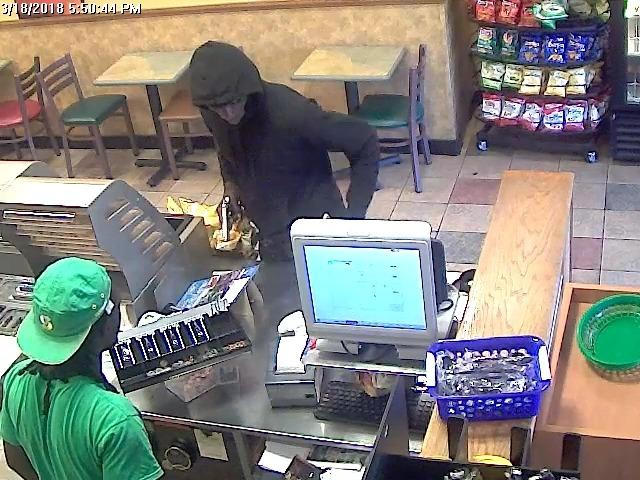weapon: (205, 192, 248, 243)
